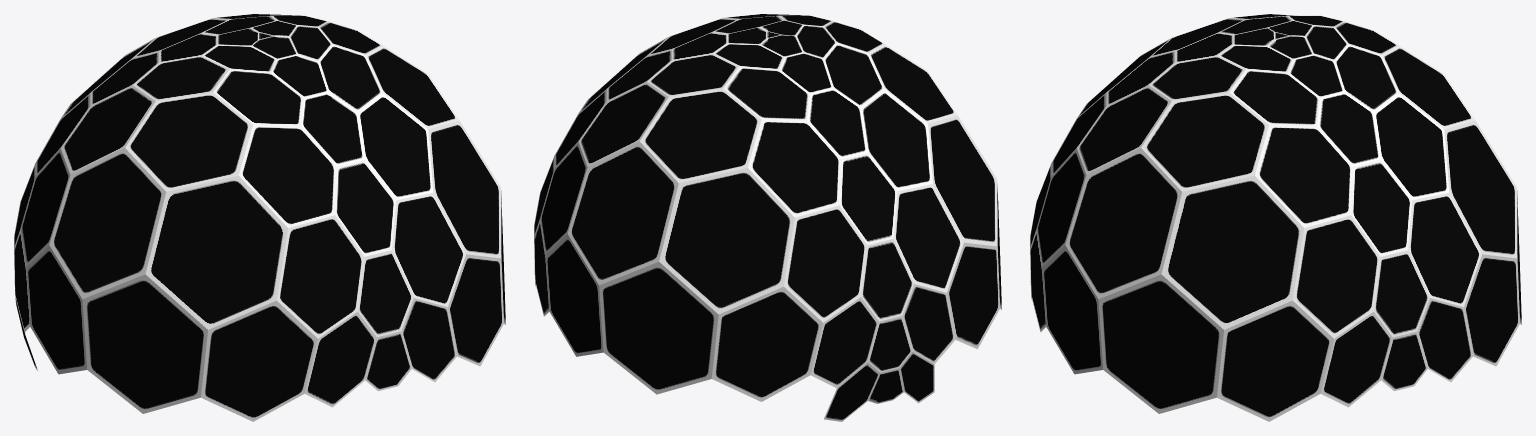
Rendered from Hemisphere.fbx.
3 views of the same model, side by side, from view 1: azimuth 30°, elevation 25°; view 2: azimuth 150°, elevation 25°; view 3: azimuth 270°, elevation 25° (orthographic). The views are drawn at different scales.
Visible parts, largest first — view 1: GD_mesh; view 2: GD_mesh; view 3: GD_mesh.
Part boxes in pixels (x1,y1,x2,y2): GD_mesh: (14, 14, 505, 421); GD_mesh: (534, 14, 1001, 421); GD_mesh: (1030, 14, 1521, 421).
Size of the model in its own units: 196 by 138 by 196.
